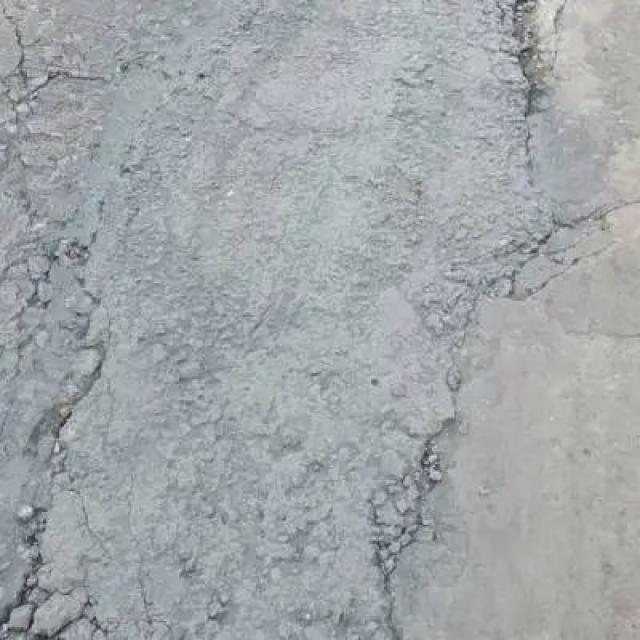Pothole: (360, 14, 578, 638), (0, 48, 136, 635)
